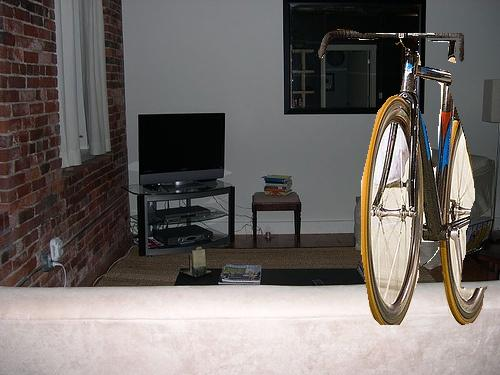tampered: (317, 30, 488, 325)
